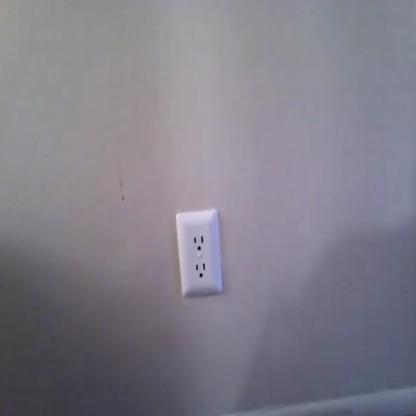OUTLET: (175, 212, 223, 296)
